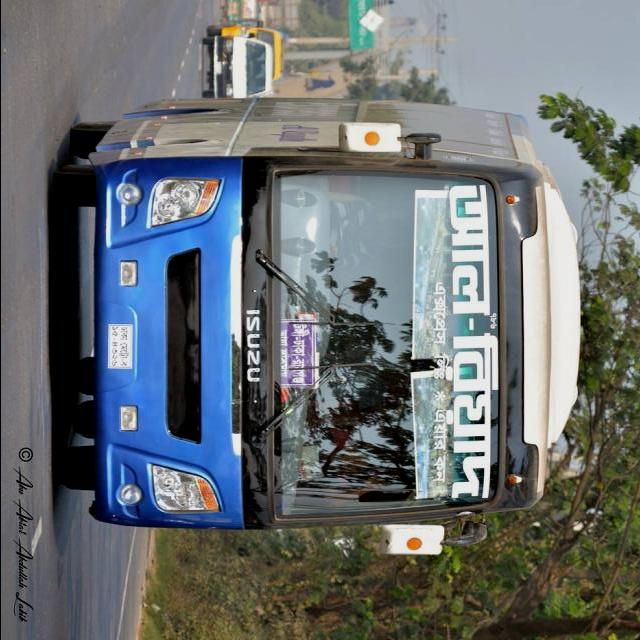bus: (55, 98, 583, 560)
